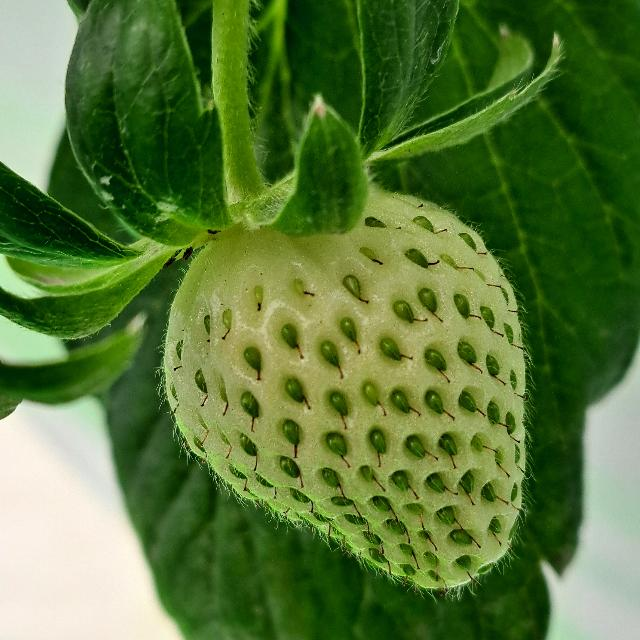Health_25: (164, 192, 526, 588)
